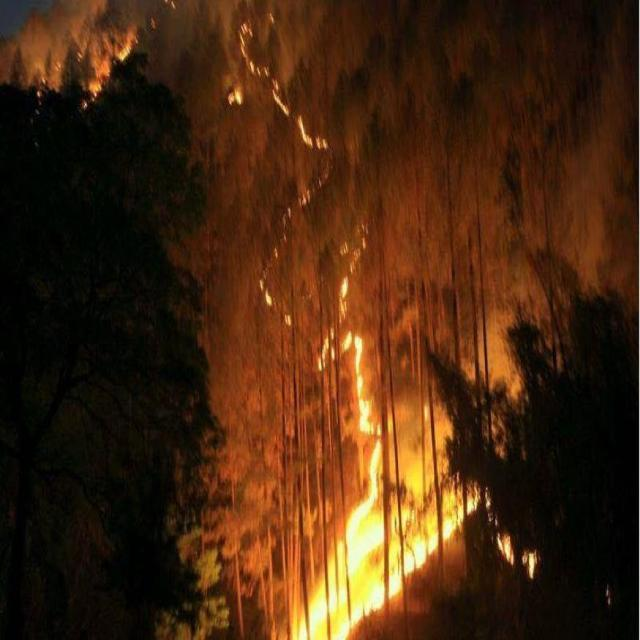Fire: (234, 32, 346, 310), (314, 291, 402, 488), (438, 456, 540, 592), (19, 5, 142, 106), (370, 458, 454, 600), (300, 507, 370, 640), (239, 6, 306, 132)
Smoke: (461, 111, 640, 417)
